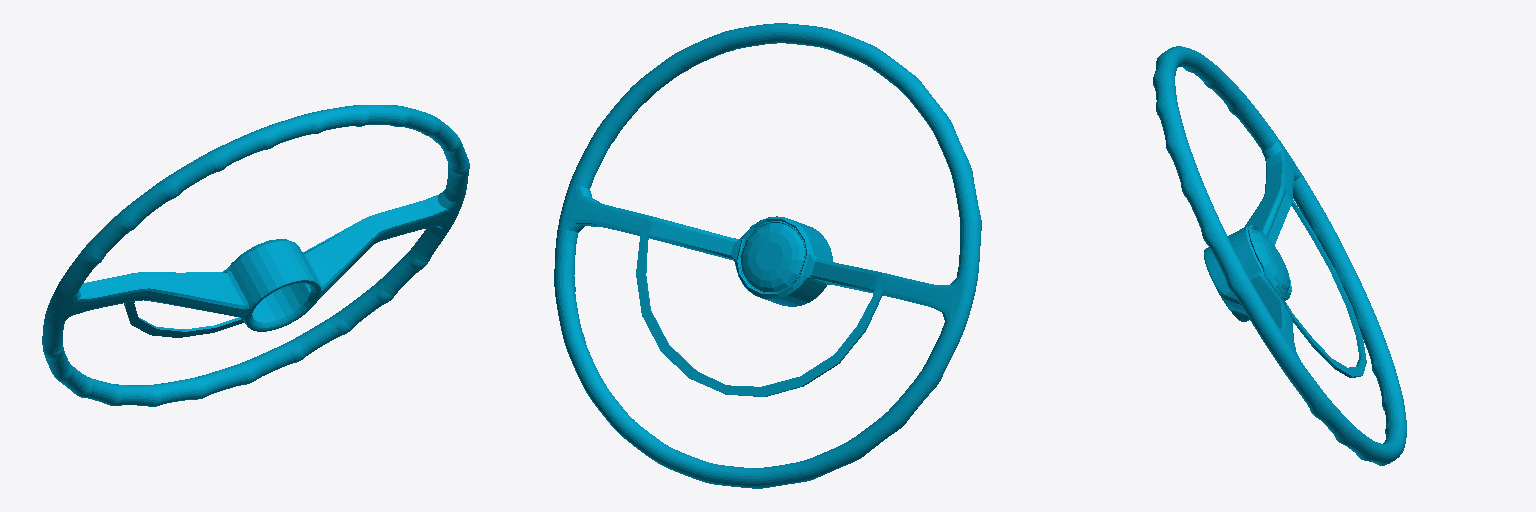
Rendered from Steering_Wheel.obj.
The picture shows the model from 3 angles: view 1: azimuth 30°, elevation 25°; view 2: azimuth 150°, elevation 25°; view 3: azimuth 270°, elevation 25°; orthographic projection.
Visible parts, largest first — view 1: Steering_Wheel_7-Interior_Acessories; view 2: Steering_Wheel_7-Interior_Acessories; view 3: Steering_Wheel_7-Interior_Acessories.
Part boxes in pixels (left/top/right/bottom): Steering_Wheel_7-Interior_Acessories: left=42, top=105, right=469, bottom=406; Steering_Wheel_7-Interior_Acessories: left=554, top=23, right=981, bottom=488; Steering_Wheel_7-Interior_Acessories: left=1153, top=46, right=1406, bottom=465.
Size of the model in its own units: 0.3107 by 0.2693 by 0.1682.